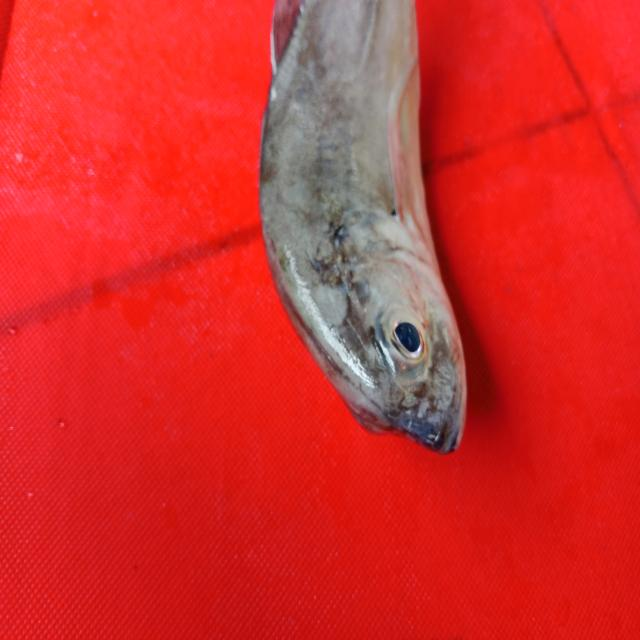ikan: (239, 4, 479, 458)
